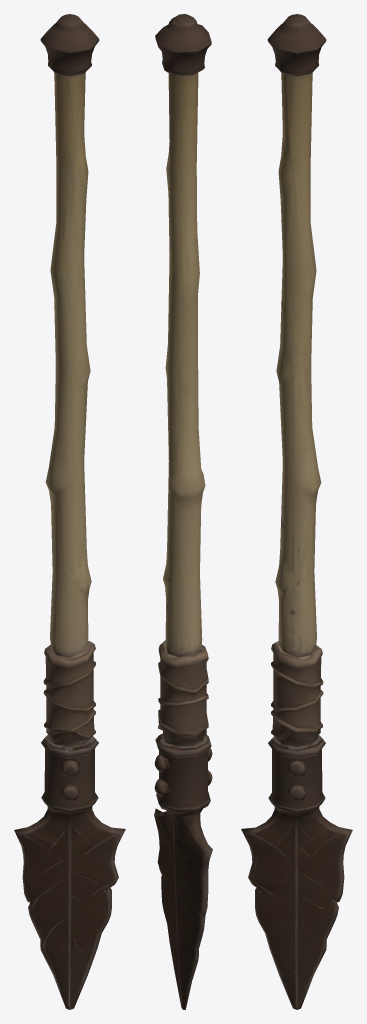
The model's file is spear_wynd_starter.glb.
The picture shows the model from 3 angles, left to right: view 1: azimuth 90°, elevation 25°; view 2: azimuth 210°, elevation 25°; view 3: azimuth 270°, elevation 25°; orthographic projection.
Parts seen in each view (by area): view 1: tripo_node_ebdcf6d7-fd65-4ec8-b7ee-cb04e90175b3; view 2: tripo_node_ebdcf6d7-fd65-4ec8-b7ee-cb04e90175b3; view 3: tripo_node_ebdcf6d7-fd65-4ec8-b7ee-cb04e90175b3.
Boxes of the visible parts, bbox=[...] form: tripo_node_ebdcf6d7-fd65-4ec8-b7ee-cb04e90175b3: bbox=[14, 14, 125, 1009]; tripo_node_ebdcf6d7-fd65-4ec8-b7ee-cb04e90175b3: bbox=[154, 14, 212, 1009]; tripo_node_ebdcf6d7-fd65-4ec8-b7ee-cb04e90175b3: bbox=[241, 14, 352, 1009].
Size of the model in its own units: 0.1404 by 2.5 by 0.2551.
Materials: 1 (1 with a texture image).
